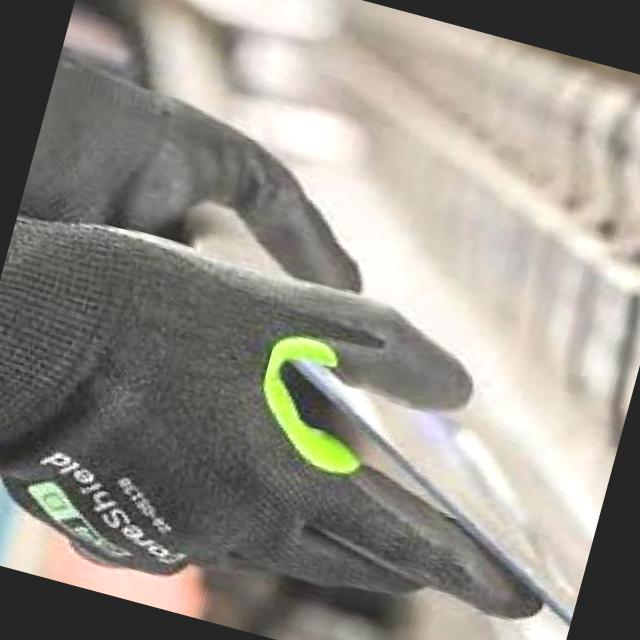gloves: (0, 203, 617, 640), (20, 43, 403, 294)
